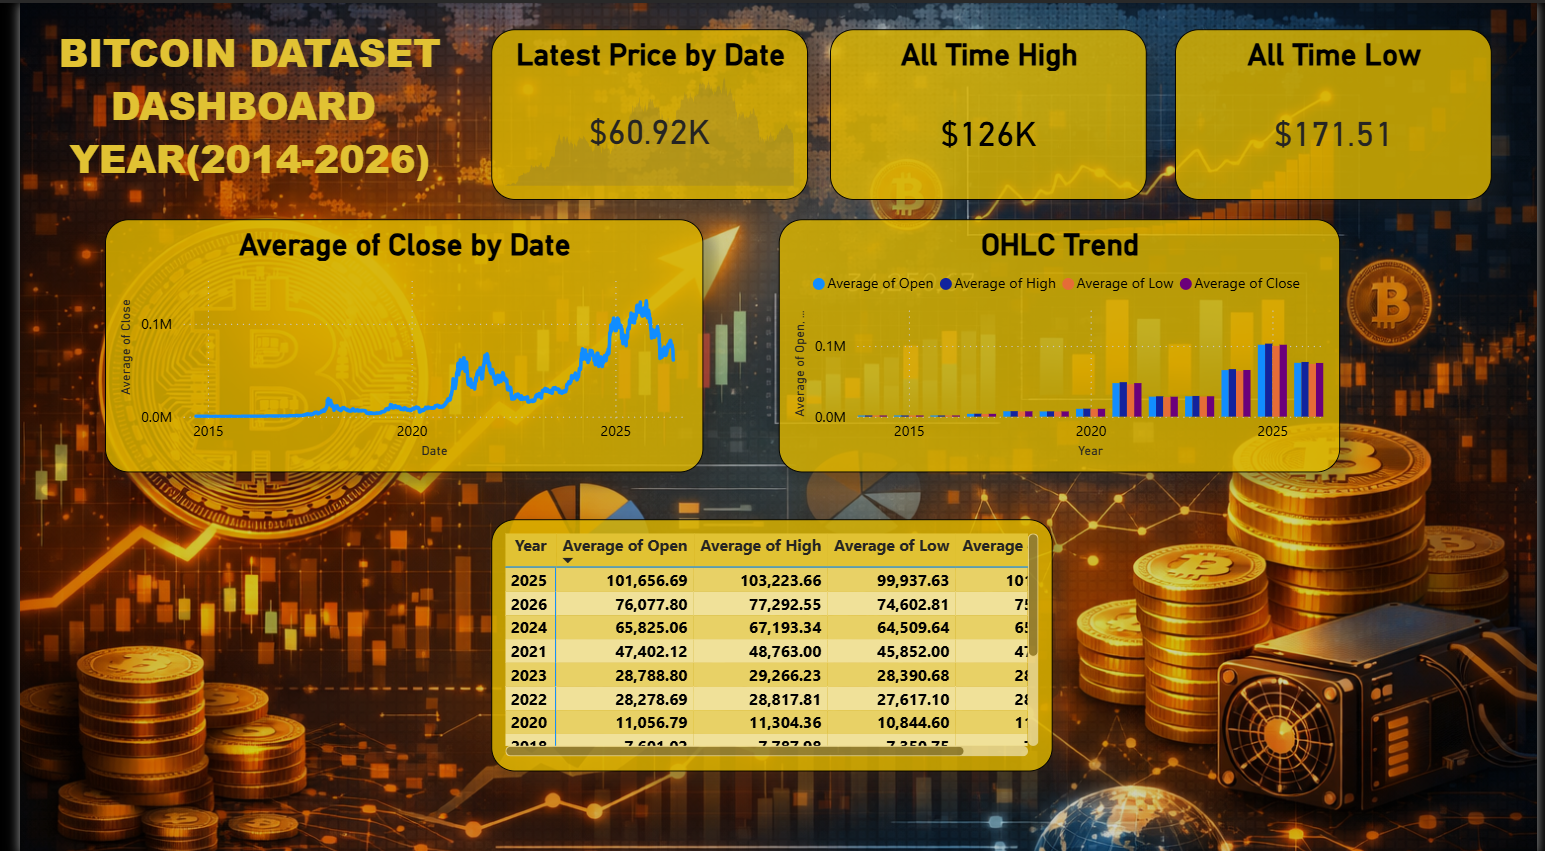

The dashboard page shown, as its layout file describes it:
{"tool":"powerbi","page":{"name":"BitCoin  Dashboard","canvas":[1280,720],"ordinal":0},"visuals":[{"type":"kpi","fields":{"Indicator":["bitcoin_dataset.Latest Price"],"TrendLine":["bitcoin_dataset.Date"]},"box":[397.7,22.1,267.4,144.2],"z":0},{"type":"textbox","box":[9.3,14,368.6,193],"z":1000},{"type":"card","title":"All Time High","fields":{"Values":["bitcoin_dataset.All time high"]},"box":[683.7,22.1,267.4,144.2],"z":2000},{"type":"card","title":"All Time Low","fields":{"Values":["bitcoin_dataset.All Time Low"]},"box":[974.4,22.1,267.4,144.2],"z":3000},{"type":"lineChart","fields":{"Category":["bitcoin_dataset.Date"],"Y":["Avg(bitcoin_dataset.Close)"]},"box":[72.2,182.2,504.4,213.3],"z":4000},{"type":"clusteredColumnChart","title":"OHLC Trend","fields":{"Category":["bitcoin_dataset.Date.Variation.Date Hierarchy.Year"],"Y":["Avg(bitcoin_dataset.Open)","Avg(bitcoin_dataset.High)","Avg(bitcoin_dataset.Low)","Avg(bitcoin_dataset.Close)"]},"box":[640,182.2,473.3,213.3],"z":5000},{"type":"pivotTable","title":"OHLC Trend","fields":{"Rows":["bitcoin_dataset.Date.Variation.Date Hierarchy.Year"],"Values":["Avg(bitcoin_dataset.Open)","Avg(bitcoin_dataset.High)","Avg(bitcoin_dataset.Low)","Avg(bitcoin_dataset.Close)"]},"box":[397.5,435,473.8,212.5],"z":6000}]}

Visuals, with their boxes in screenshot pixels (x1, y1, x2, y2), scaled from the page's 1280x720 canvas onto the 1545x851 screenshot:
kpi - bitcoin_dataset.Latest Price x bitcoin_dataset.Date: 480:26:803:197
textbox: 11:17:456:245
"All Time High" card: 825:26:1148:197
"All Time Low" card: 1176:26:1499:197
lineChart - bitcoin_dataset.Date x Avg(bitcoin_dataset.Close): 87:215:696:467
"OHLC Trend" clusteredColumnChart: 772:215:1344:467
"OHLC Trend" pivotTable: 480:514:1052:765
